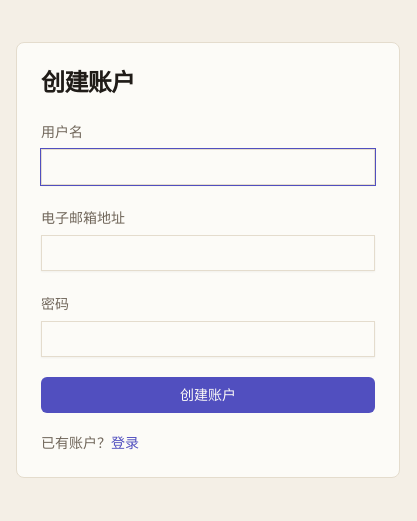
Scenario: 注册页 › 前端按契约拦下过短的用户名与密码，不发请求
The width and height of the screenshot is (417, 521).
Type "ab" into the field with test id "register-username" at (208,167), box 41,149 -> 375,185
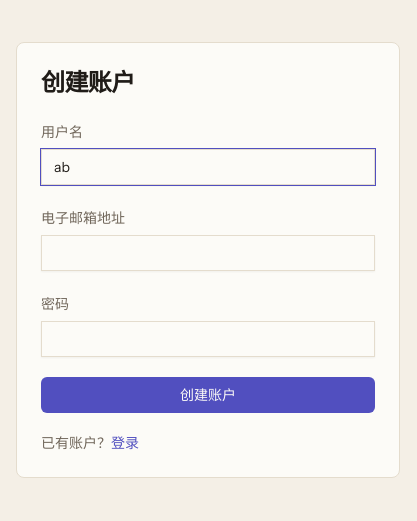
Type "newbie@example.com" into the field with test id "register-email" at (208,253), box 41,235 -> 375,271
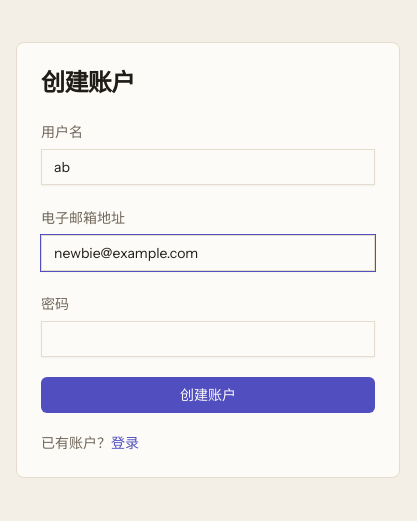
Type "short" into the password field with test id "register-password" at (208,339), box 41,321 -> 375,357
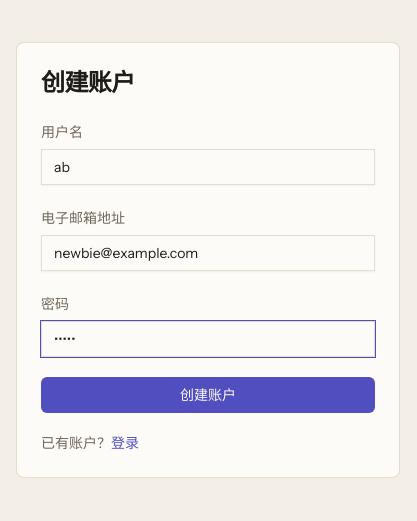
Click the button with test id "register-submit" at (208,395), box 41,377 -> 375,413
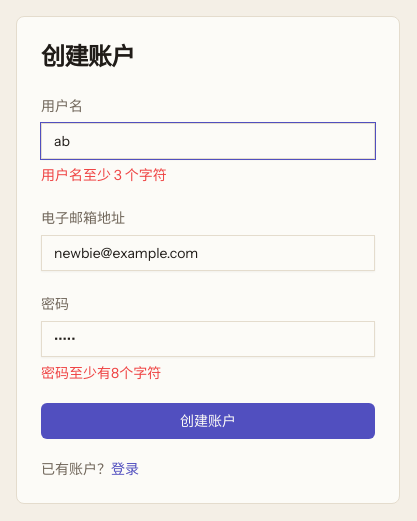
Expected: the message "用户名至少 3 个字符" is shown, 41,166 -> 167,184
Expected: the message "密码至少有8个字符" is shown, 41,364 -> 161,382
